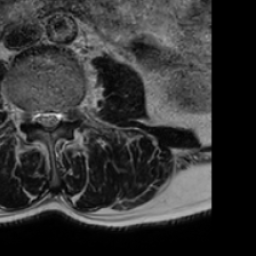CCS_severe_stenosis: (41, 102, 51, 138)
LFS_normal: (61, 99, 71, 129)
LLS_normal: (51, 102, 61, 132)
RFS_normal: (22, 101, 32, 131)
RLS_normal: (32, 103, 41, 131)
